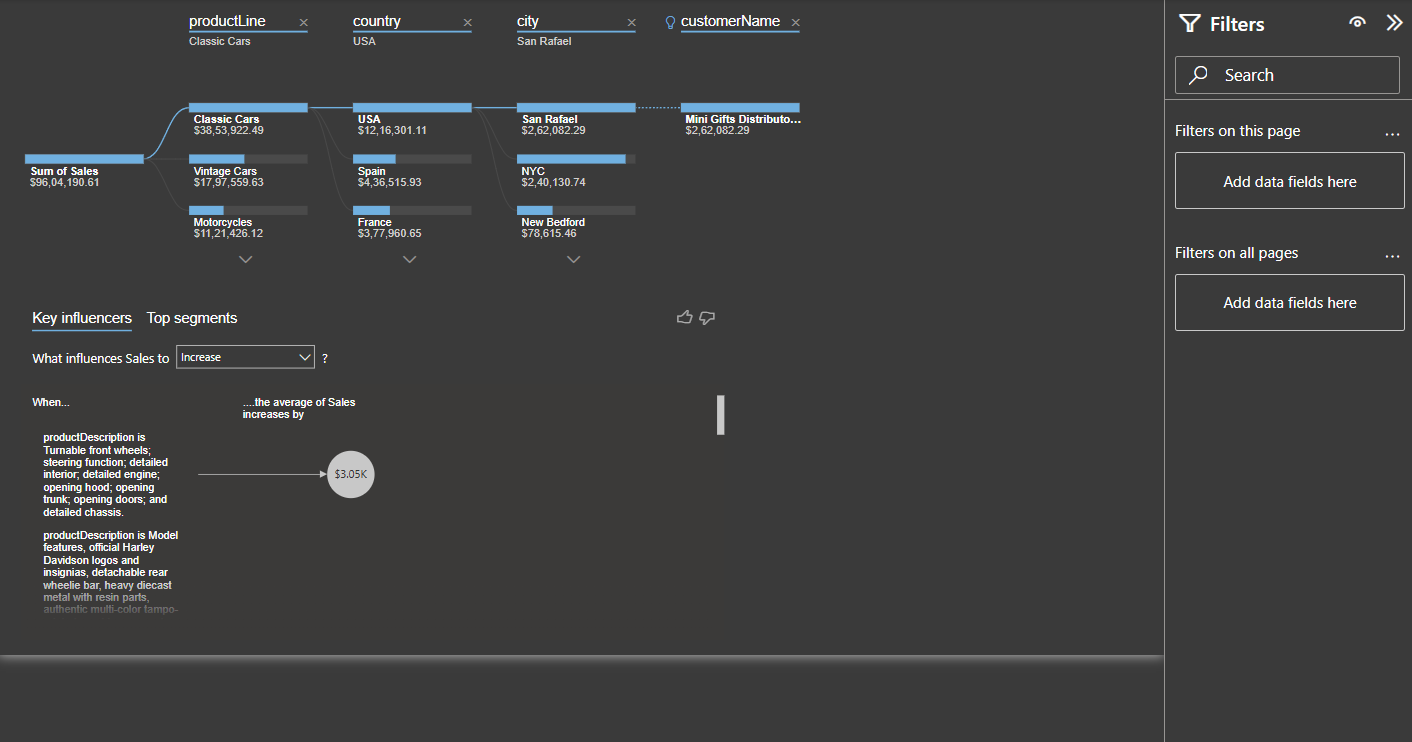

Layout of this report page (visuals, bound fields, positions):
{"tool":"powerbi","page":{"name":"Page 3","canvas":[1280,720],"ordinal":3},"visuals":[{"type":"decompositionTreeVisual","fields":{"ExplainBy":["products.productLine","customers.customerName"],"Analyze":["Sum(order details.Sales)"]},"box":[78.4,158.2,541.6,297.9],"z":0},{"type":"keyDriversVisual","fields":{"Target":["order details.Sales"],"ExplainBy":["products.productDescription"]},"box":[632.9,169.6,613.5,538.8],"z":1000}]}

Visuals, with their boxes on the page's 1280x720 design canvas (x1, y1, x2, y2). These are canvas units, not pixel positions in the 1412x742 screenshot, which may show the page scaled, cropped or inside an application window:
decompositionTreeVisual - products.productLine x customers.customerName: l=78, t=158, r=620, b=456
keyDriversVisual - order details.Sales x products.productDescription: l=633, t=170, r=1246, b=708
